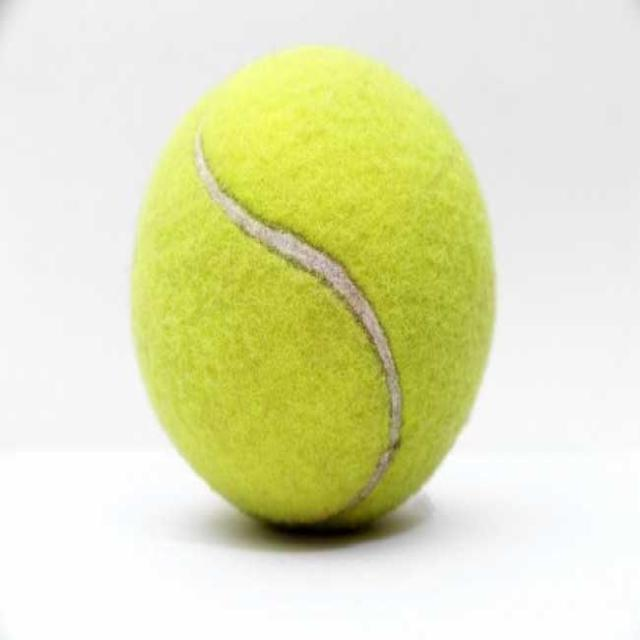Tennis_Ball: (127, 54, 482, 536)
